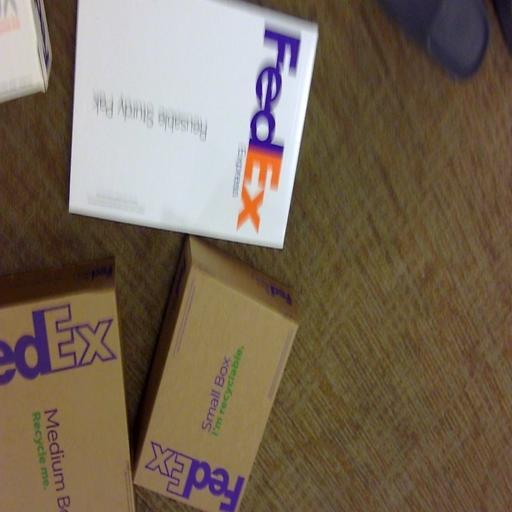Amazon: (69, 0, 322, 253), (134, 248, 306, 512), (0, 249, 146, 510)
